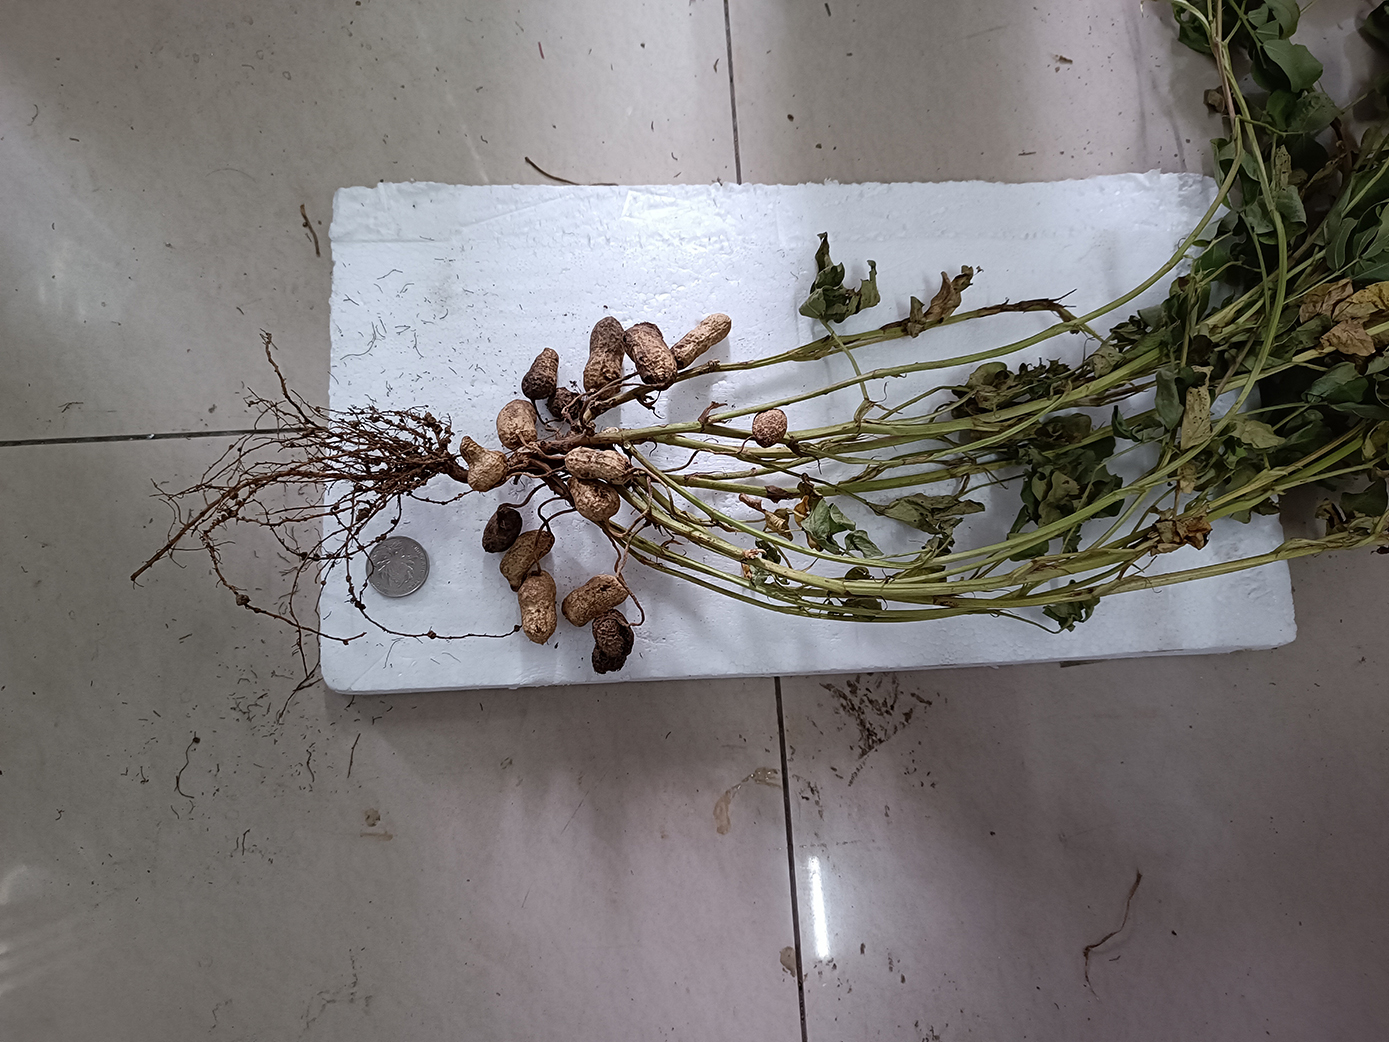h: (562, 574, 630, 628), (499, 530, 556, 593), (670, 313, 731, 370), (517, 571, 558, 645), (459, 435, 508, 493), (563, 445, 629, 486), (568, 477, 621, 522), (496, 400, 539, 450), (752, 409, 787, 449)
l: (624, 322, 678, 387), (584, 315, 624, 400), (590, 610, 635, 673), (521, 347, 559, 401), (482, 508, 523, 553), (547, 386, 583, 421)
